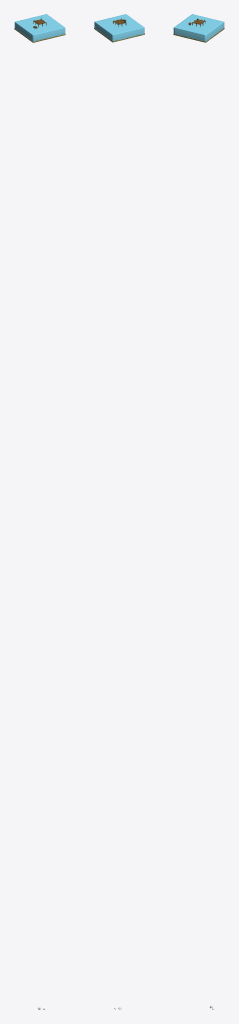
The model's file is seashank.glb.
3 renders of one model, left to right at view 1: azimuth 30°, elevation 25°; view 2: azimuth 210°, elevation 25°; view 3: azimuth 330°, elevation 25°, orthographic.
Parts seen in each view (by area): view 1: sea animated; view 2: sea animated; view 3: sea animated.
Boxes of the visible parts, x1,y1,x2,y2 form: sea animated: [14, 14, 65, 41]; sea animated: [94, 14, 144, 41]; sea animated: [173, 14, 224, 41].
Size of the model in its own units: 20 by 584 by 20.
